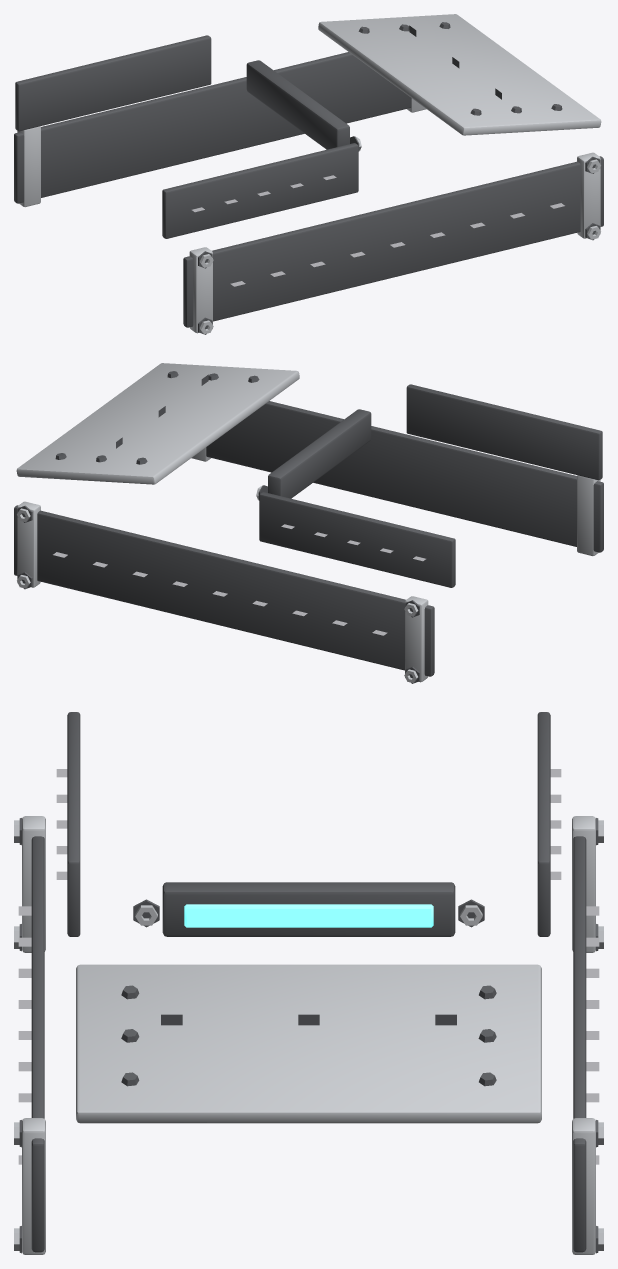
File: grudge_hull.glb
The picture shows the model from 3 angles, top to bottom: view 1: azimuth 30°, elevation 25°; view 2: azimuth 150°, elevation 25°; view 3: azimuth 270°, elevation 25°; orthographic projection. The views are drawn at different scales.
Visible parts, largest first — view 1: overlay; view 2: overlay; view 3: overlay.
Part boxes in pixels (x1,y1,x2,y2): overlay: (14, 14, 603, 334); overlay: (14, 363, 603, 683); overlay: (14, 712, 603, 1254).
Bounding box in the file's own units: 0.7484 × 0.2251 × 0.5448.
